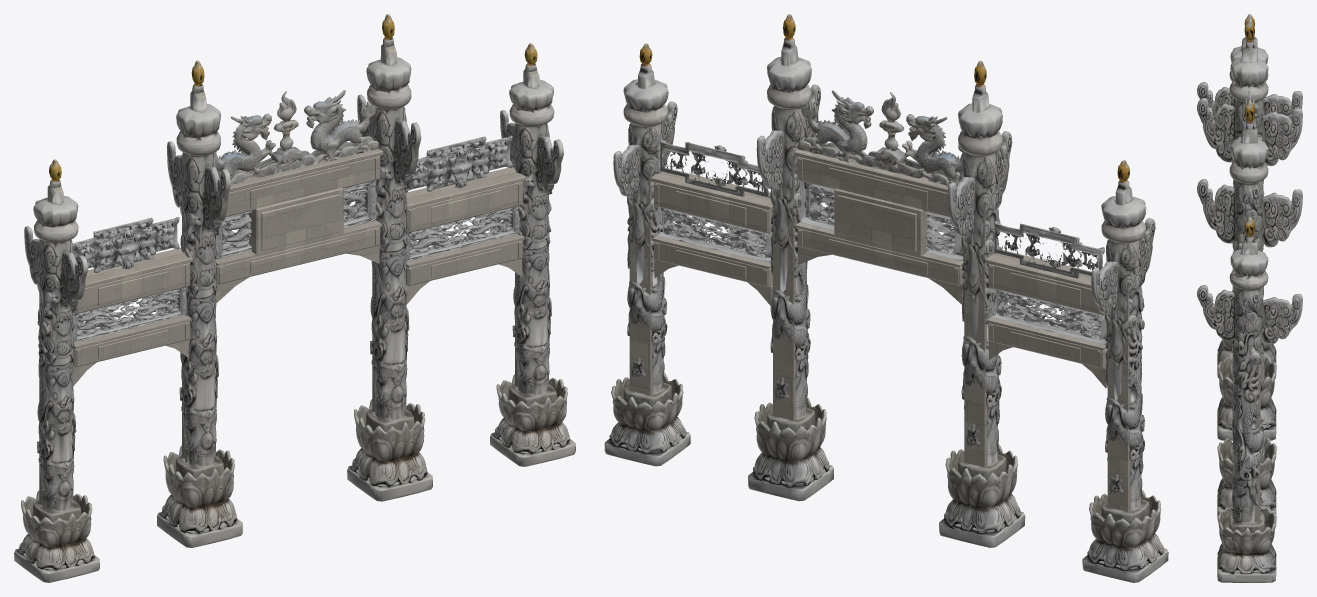
The model's file is paifang.glb.
3 renders of one model, left to right at view 1: azimuth 30°, elevation 25°; view 2: azimuth 150°, elevation 25°; view 3: azimuth 270°, elevation 25°, orthographic. The views are drawn at different scales.
Visible parts, largest first — view 1: 柱-7.0, 白玉, pf_hua_0, pf_jilong_1, pf_juancao_3; view 2: 柱-7.0, 白玉, pf_hua_0, pf_jilong_1, pf_juancao_3; view 3: 柱-7.0, 白玉.
Part boxes in pixels (box(x1,y1,x2,y2)): 柱-7.0: box(14, 14, 575, 582); 白玉: box(39, 149, 526, 502); pf_hua_0: box(72, 180, 519, 341); pf_jilong_1: box(213, 90, 378, 185); pf_juancao_3: box(72, 135, 512, 272); 柱-7.0: box(604, 14, 1168, 582); 白玉: box(629, 149, 1131, 512); pf_hua_0: box(656, 181, 1106, 344); pf_jilong_1: box(797, 90, 965, 186); pf_juancao_3: box(659, 139, 1104, 278); 柱-7.0: box(1197, 14, 1302, 582); 白玉: box(1237, 137, 1263, 522).
Bounding box in the file's own units: 1.19 × 0.9999 × 0.234.
5 materials, 5 textured.
